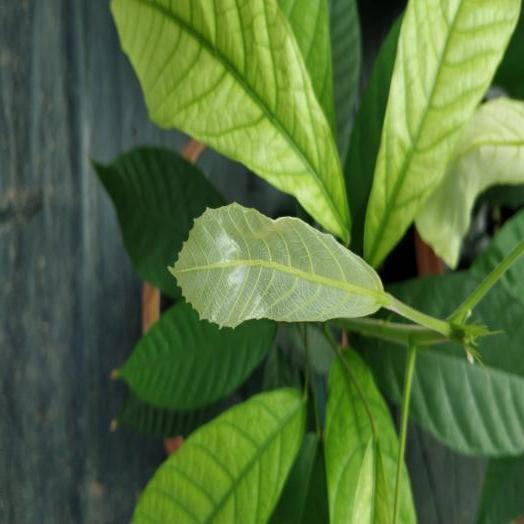Healthy Leaf: (94, 147, 224, 298), (411, 283, 523, 458), (118, 302, 275, 410)
Iron: (111, 0, 348, 241), (364, 0, 520, 265), (169, 203, 396, 327), (132, 388, 305, 523), (416, 97, 523, 268), (325, 350, 397, 522)
